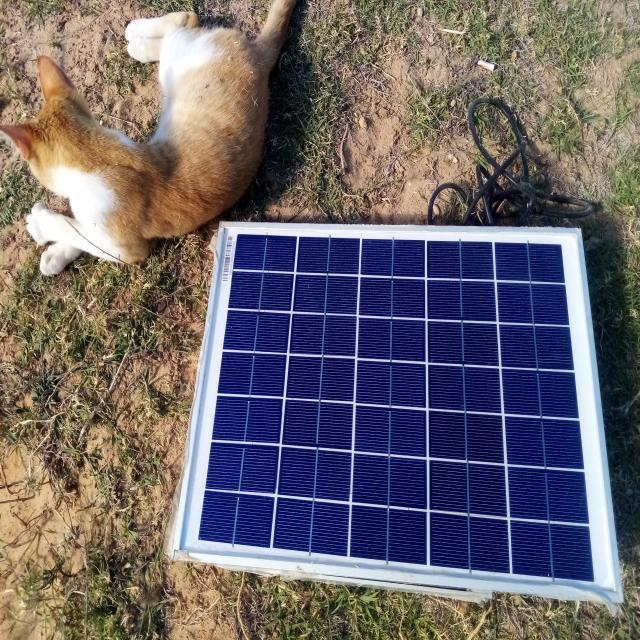Normal Solar Panel: (172, 222, 624, 602)
